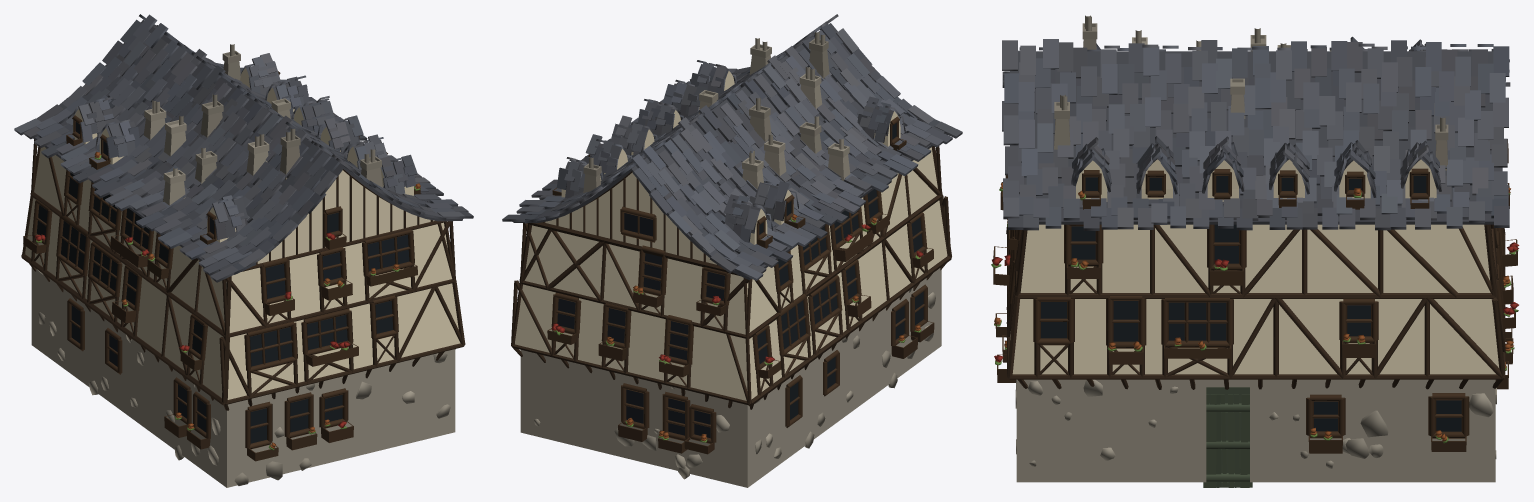
File: house_04.glb
3 renders of one model, left to right at view 1: azimuth 30°, elevation 25°; view 2: azimuth 150°, elevation 25°; view 3: azimuth 270°, elevation 25°, orthographic. The views are drawn at different scales.
Parts seen in each view (by area): view 1: house_04; view 2: house_04; view 3: house_04.
Boxes of the visible parts, left/top/right/bottom form: house_04: left=14, top=14, right=473, bottom=487; house_04: left=502, top=14, right=962, bottom=487; house_04: left=991, top=15, right=1519, bottom=487.
Bounding box in the file's own units: 7.63 × 8.95 × 10.78.
